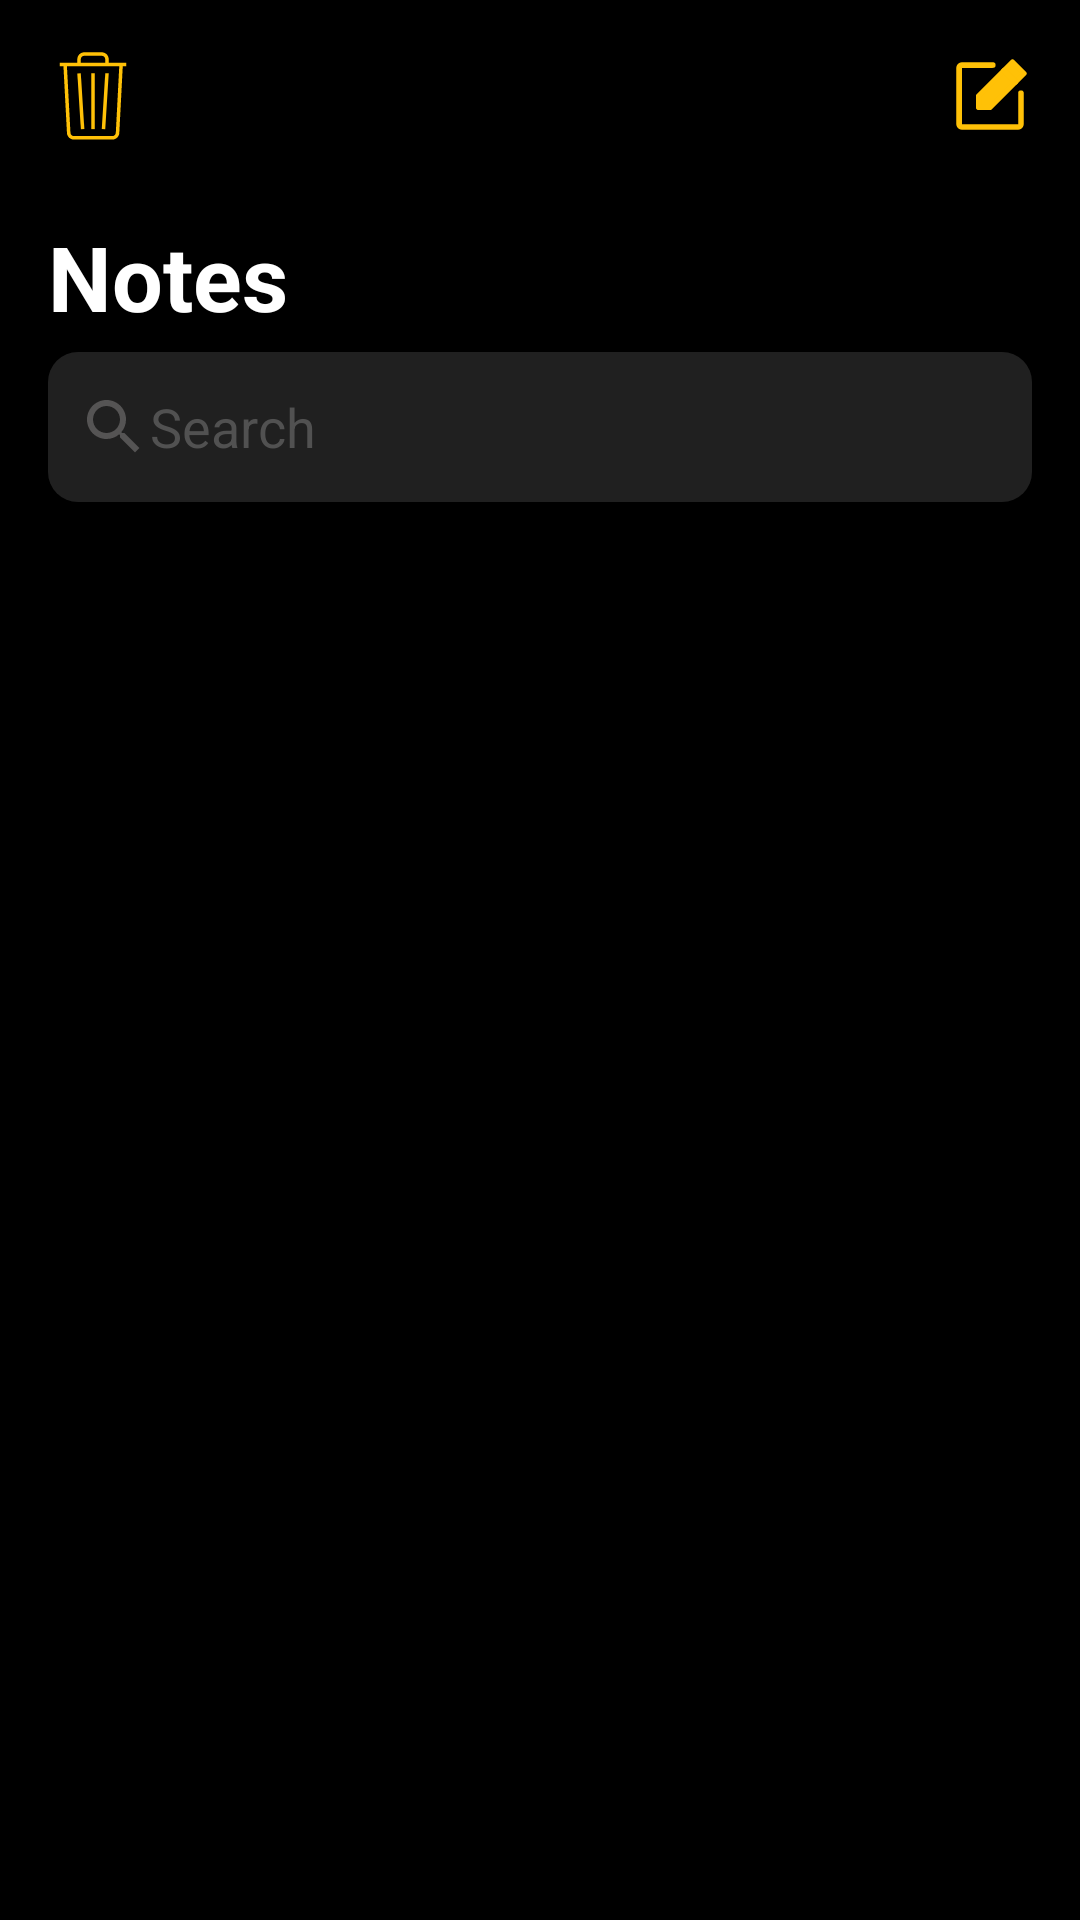

Screen size 1080w x 1920h. Icon name, then its center in pixels as [x,y]:
addnote: [991,94]
recycle: [93,96]
